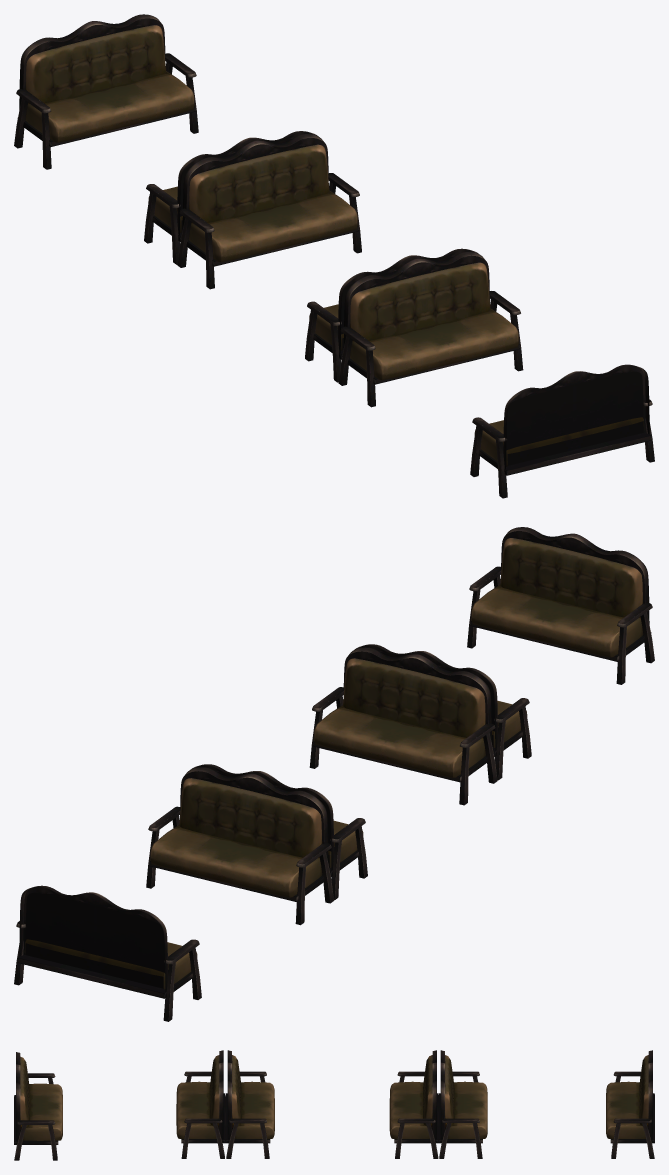
File: sillones.obj
3 renders of one model, top to bottom at view 1: azimuth 30°, elevation 25°; view 2: azimuth 150°, elevation 25°; view 3: azimuth 270°, elevation 25°, orthographic. The views are drawn at different scales.
Visible parts, largest first — view 1: sofaA02_meshId140; view 2: sofaA02_meshId140; view 3: sofaA02_meshId140.
Part boxes in pixels (x1,y1,x2,y2): sofaA02_meshId140: (14, 14, 654, 498); sofaA02_meshId140: (14, 527, 654, 1021); sofaA02_meshId140: (14, 1050, 654, 1160).
Bounding box in the file's own units: 4.96 × 3.17 × 26.06.
2 materials, 2 textured.
